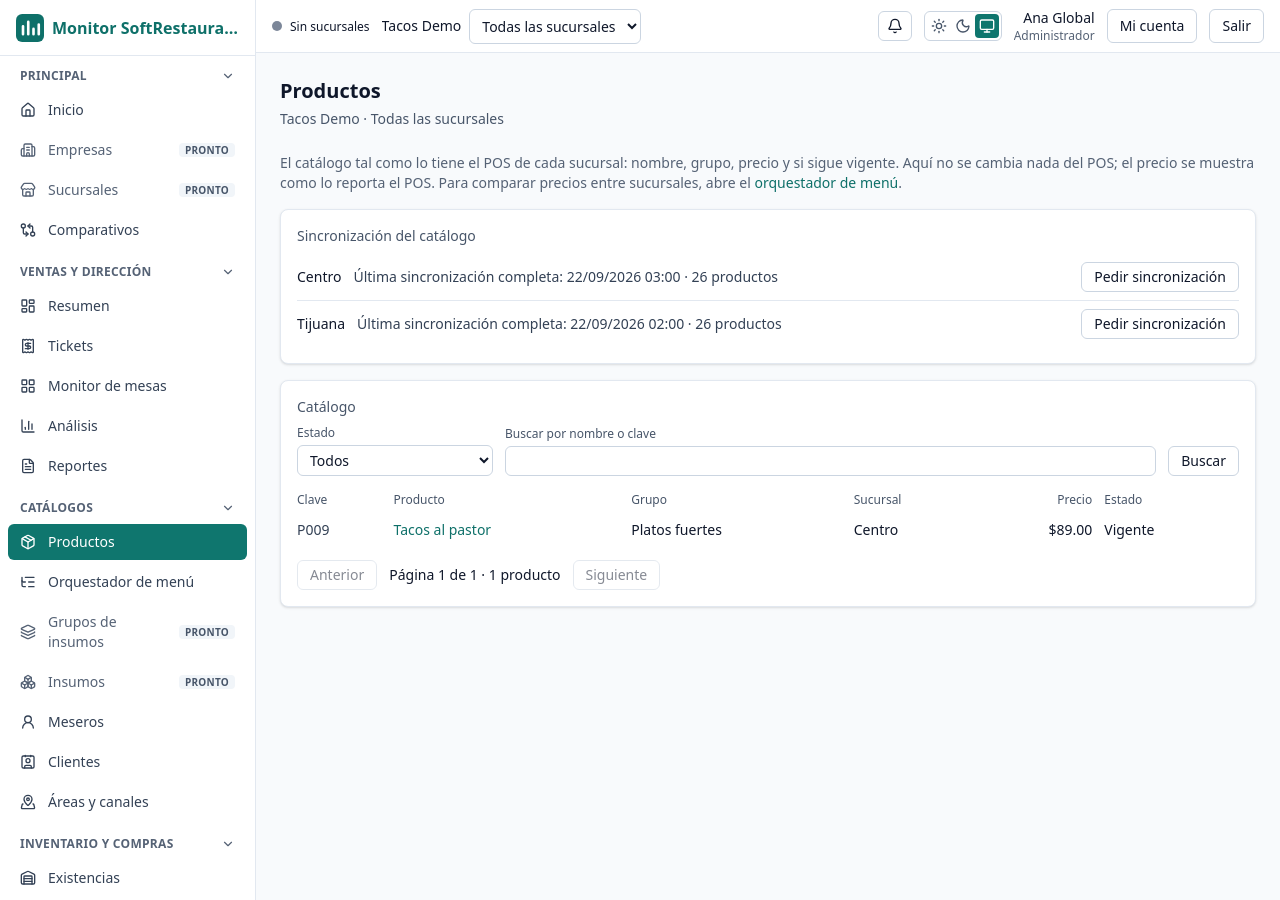
it: Productos › un admin guarda la metadata con el cuerpo exacto del contrato
Click the button "Tacos al pastor" at point(442, 530), box x1=394 y1=520 x2=491 y2=540
(page scrolled)
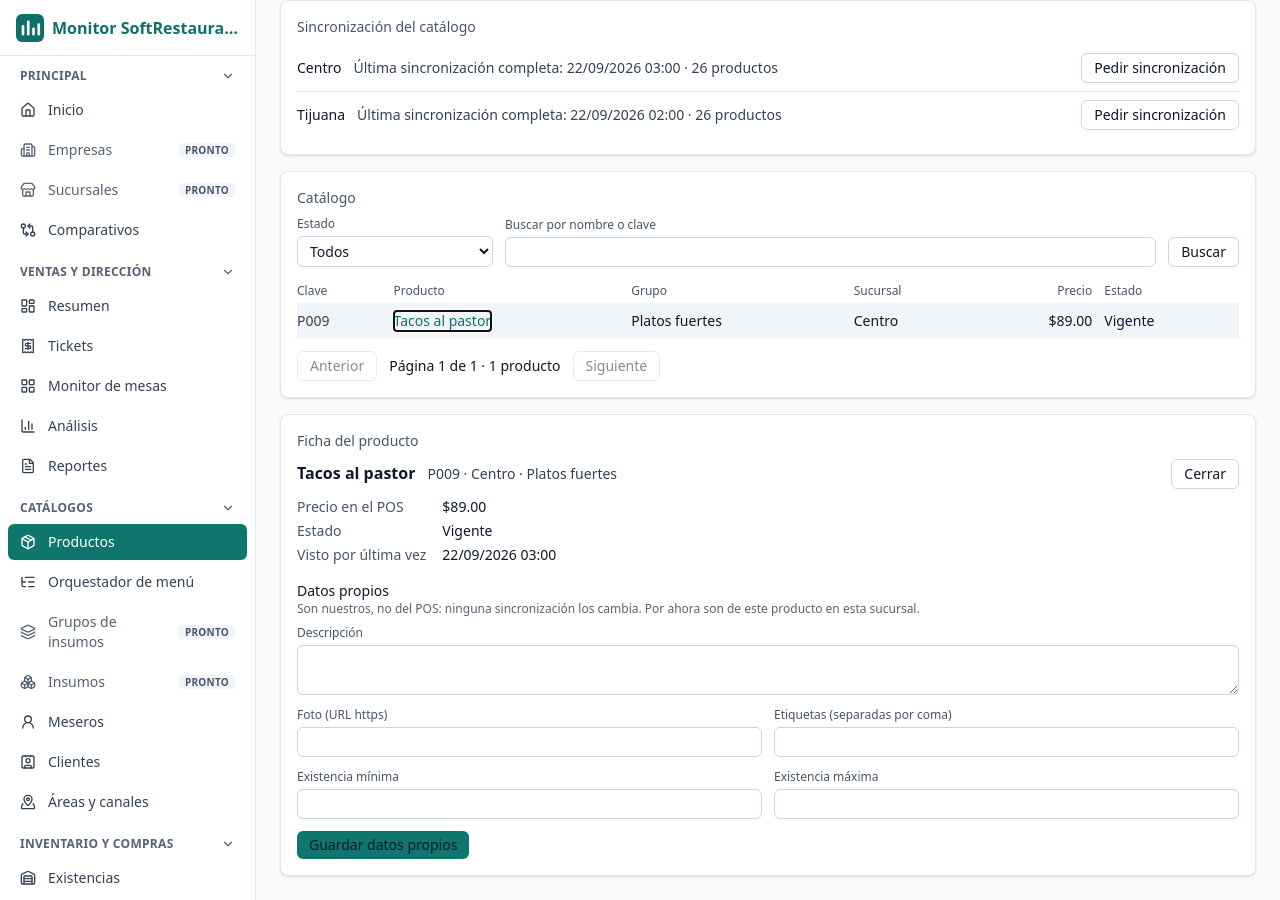
Type "Con piña" into the text box labelled "Descripción" at point(768, 670), box x1=297 y1=645 x2=1239 y2=695
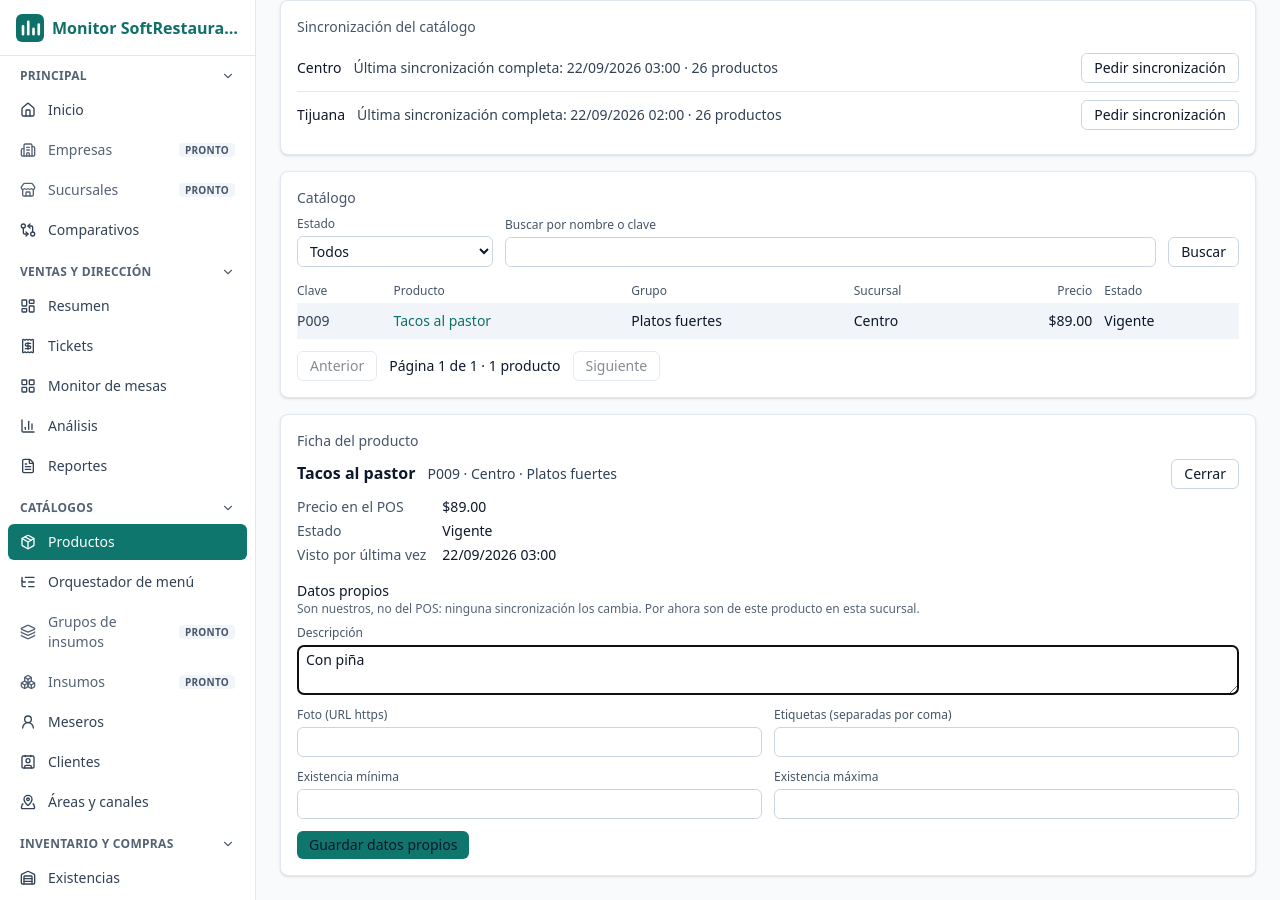
Type "picante, , favorito" into the field labelled "Etiquetas (separadas por coma)" at point(1006, 742), box x1=774 y1=727 x2=1239 y2=757
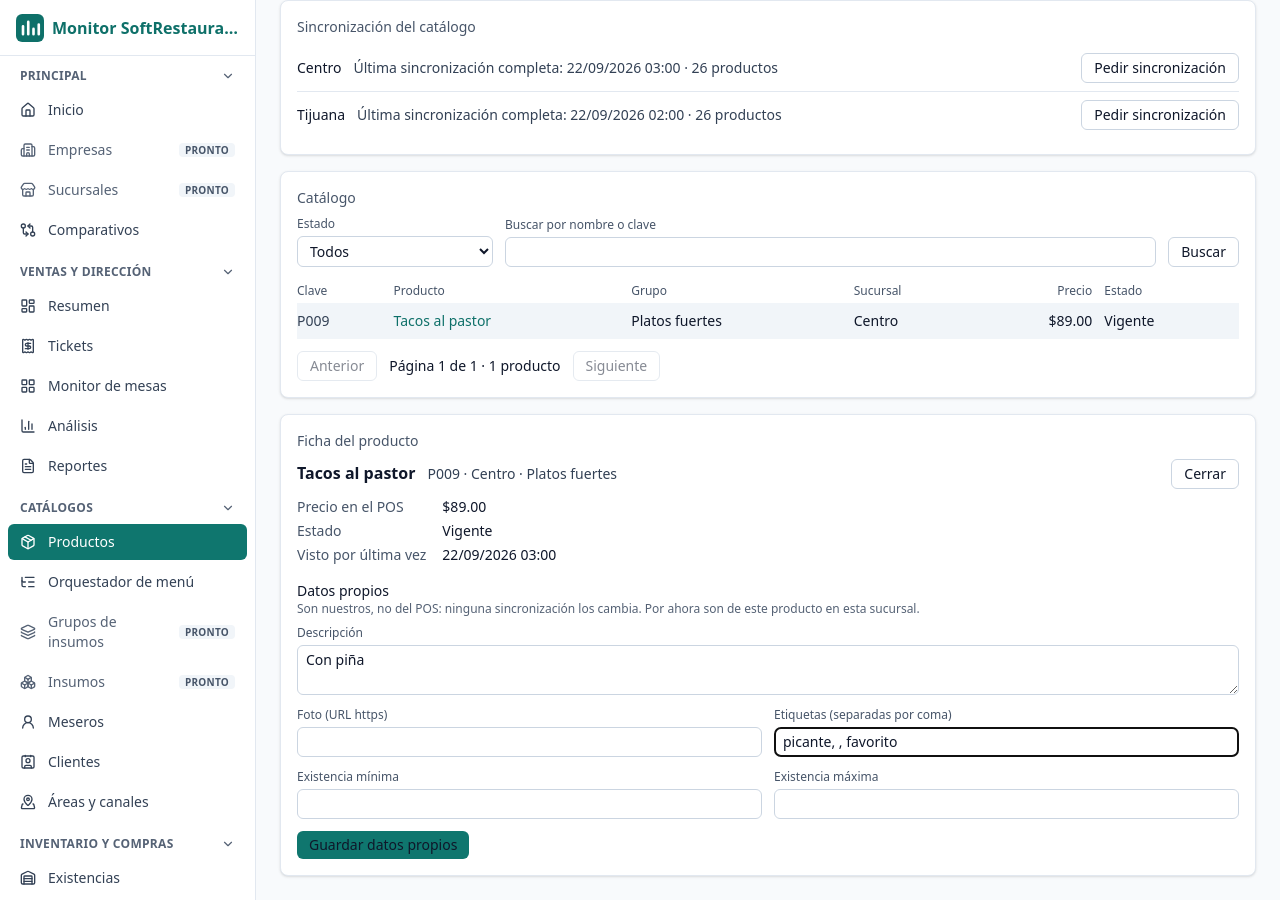
Type "2.5" into the field labelled "Existencia mínima" at point(530, 804), box x1=297 y1=789 x2=762 y2=819
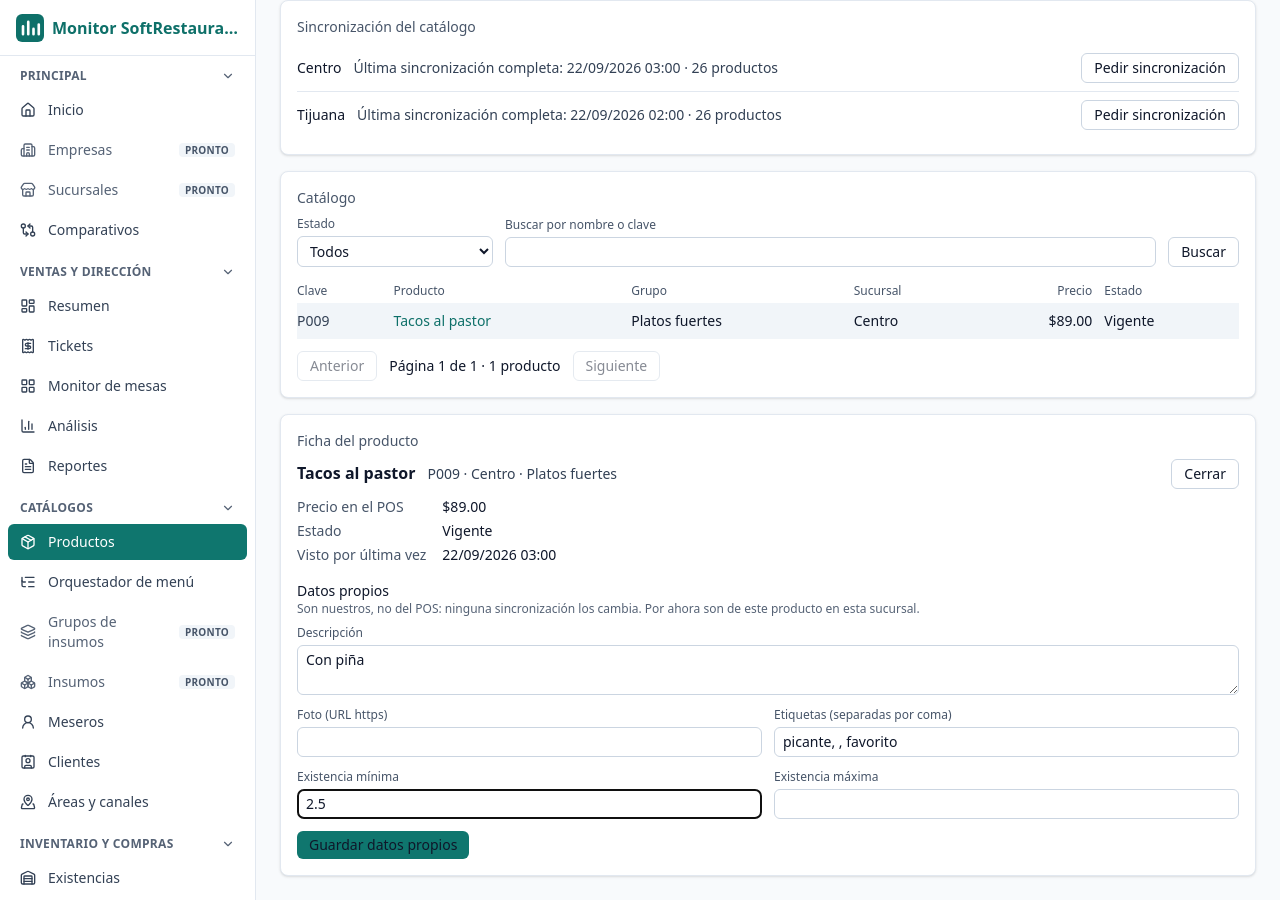
Click the button "Guardar datos propios" at point(383, 845), box x1=297 y1=831 x2=469 y2=859
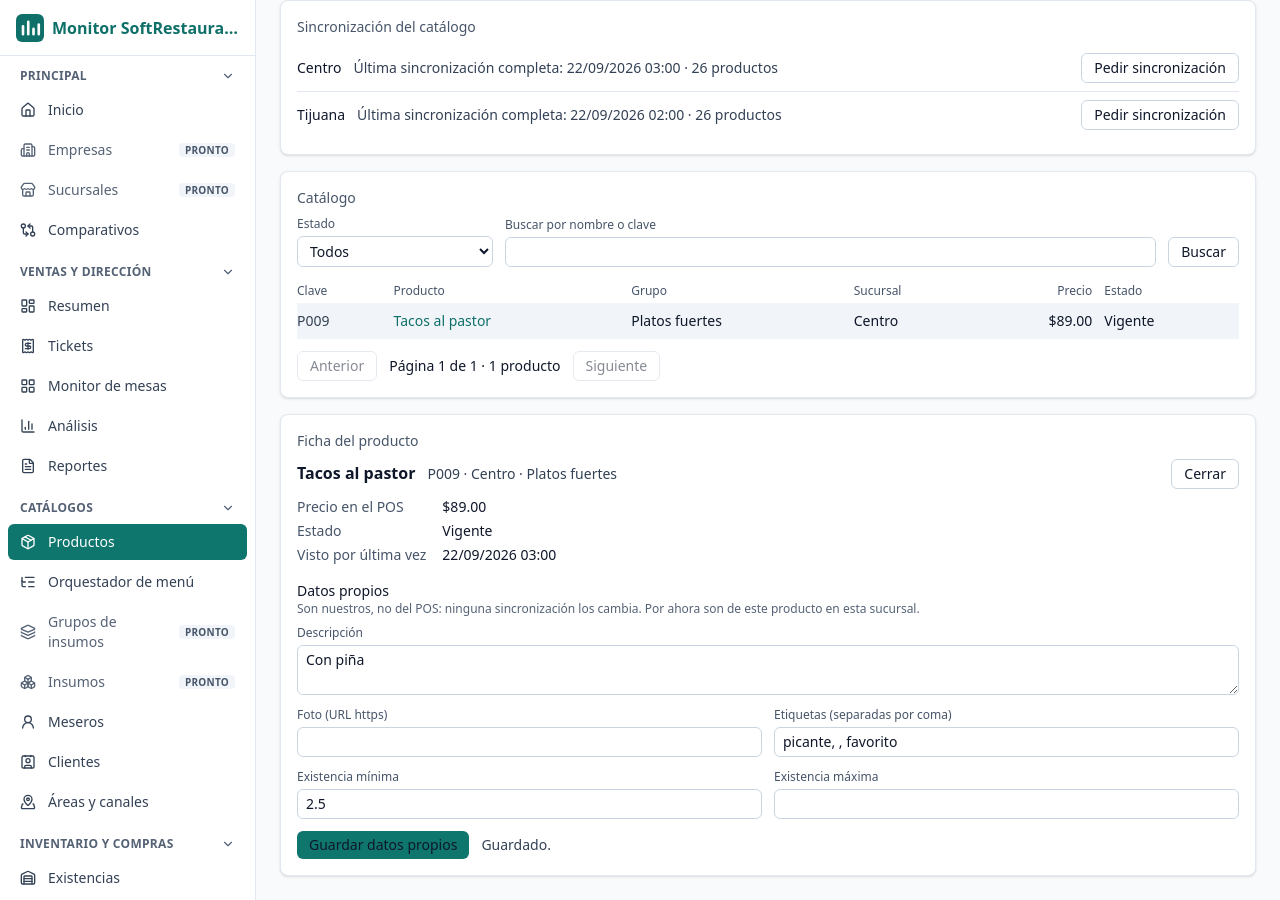
Expected: the text "Guardado." is shown, x1=481 y1=835 x2=551 y2=855
